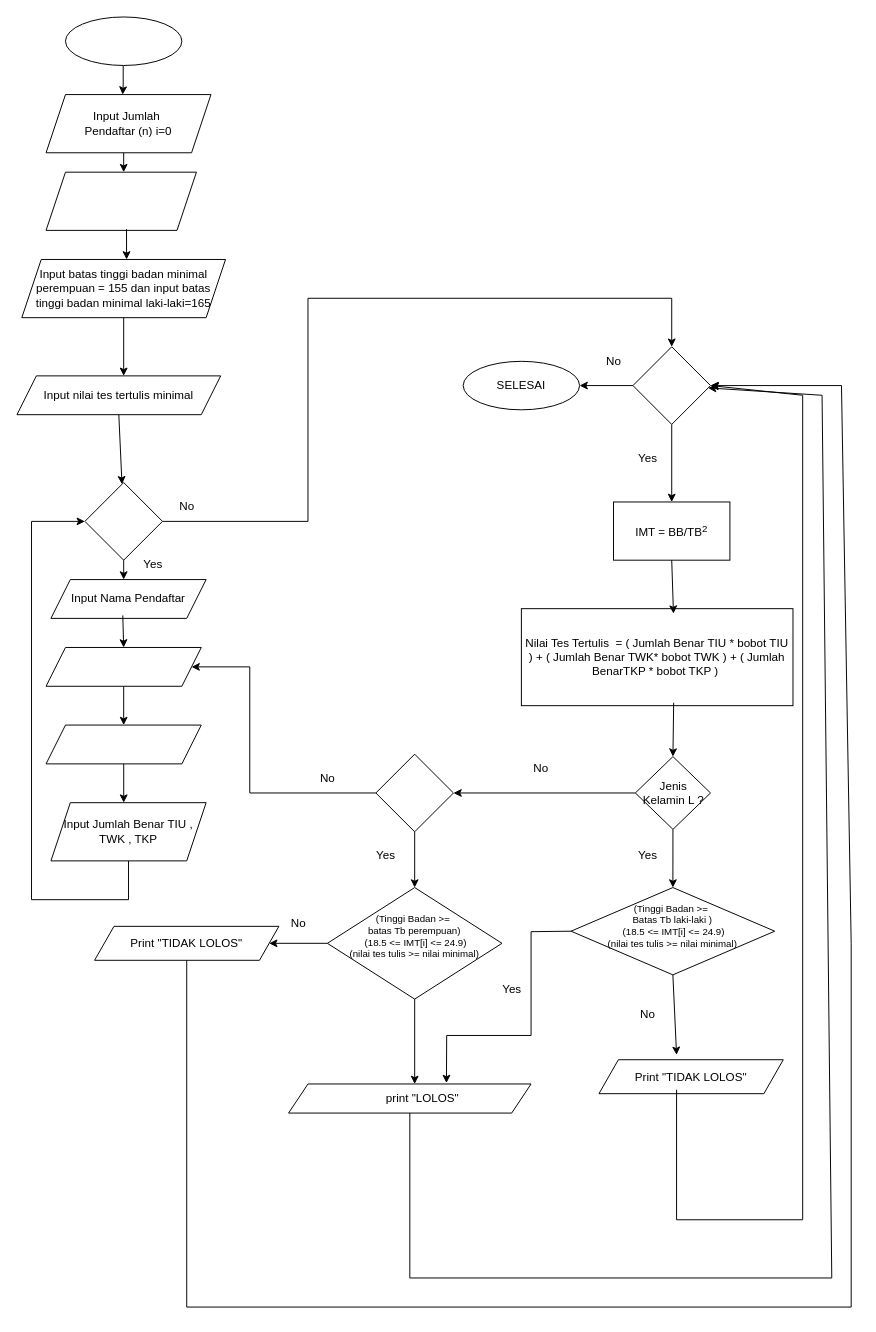
This 876x1332 diagram has some shape labels left out. Each missing label, with the centre of its shape:
"i < = n" belongs at (x=671, y=385).
"i <= n" belongs at (x=123, y=521).
"input bobot nilai t es tertulis (TIU, TWK, TKP)" belongs at (x=120, y=200).
"Input Jenis Kelamin" belongs at (x=123, y=666).
"Input Tinggi Badan, Berat Badan" belongs at (x=123, y=744).
"Jenis Kelamin P?" belongs at (x=414, y=792).
"MULAI" belongs at (x=123, y=40).
